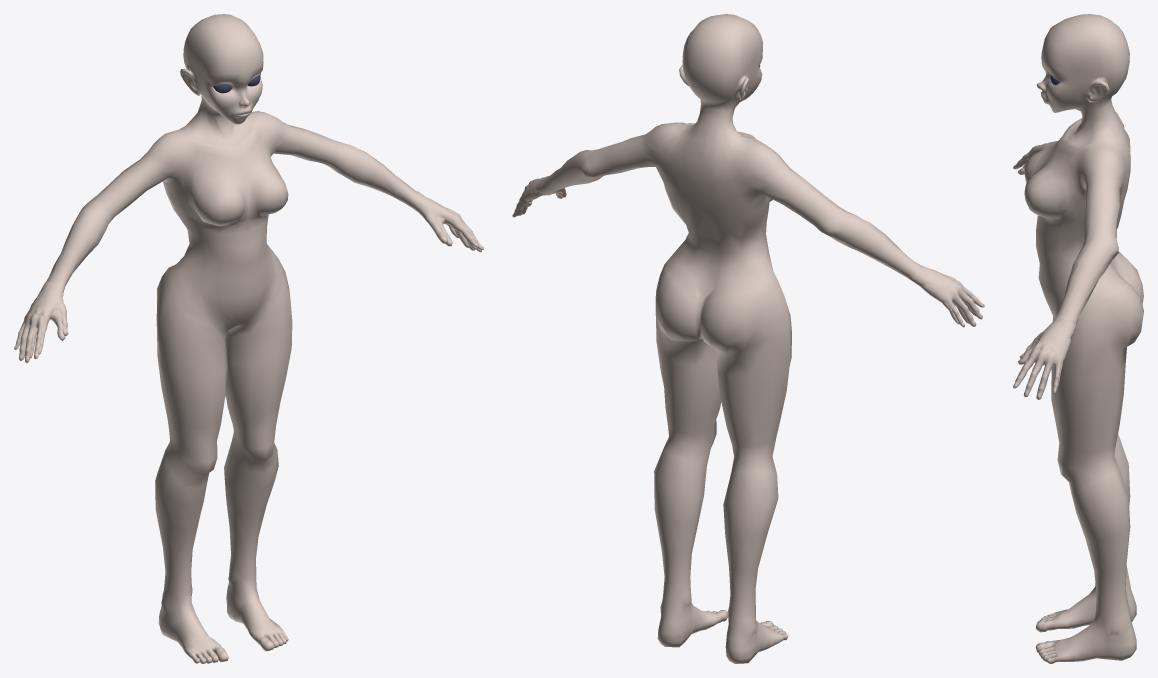
File: waifu_cage.glb
The picture shows the model from 3 angles, left to right: view 1: azimuth 30°, elevation 25°; view 2: azimuth 150°, elevation 25°; view 3: azimuth 270°, elevation 25°; orthographic projection.
Visible parts, largest first — view 1: Anime_Female_A, Anime_Female_A_Hand01_R; view 2: Anime_Female_A, Anime_Female_A_Hand01_R; view 3: Anime_Female_A, Anime_Female_A_Hand01.
Boxes of the visible parts, bbox=[...] form: Anime_Female_A: bbox=[25, 14, 478, 663]; Anime_Female_A_Hand01_R: bbox=[14, 281, 65, 363]; Anime_Female_A: bbox=[515, 14, 976, 663]; Anime_Female_A_Hand01_R: bbox=[913, 264, 984, 327]; Anime_Female_A: bbox=[1015, 14, 1143, 663]; Anime_Female_A_Hand01: bbox=[1013, 318, 1074, 399].
Size of the model in its own units: 1.22 by 1.58 by 0.3009.
